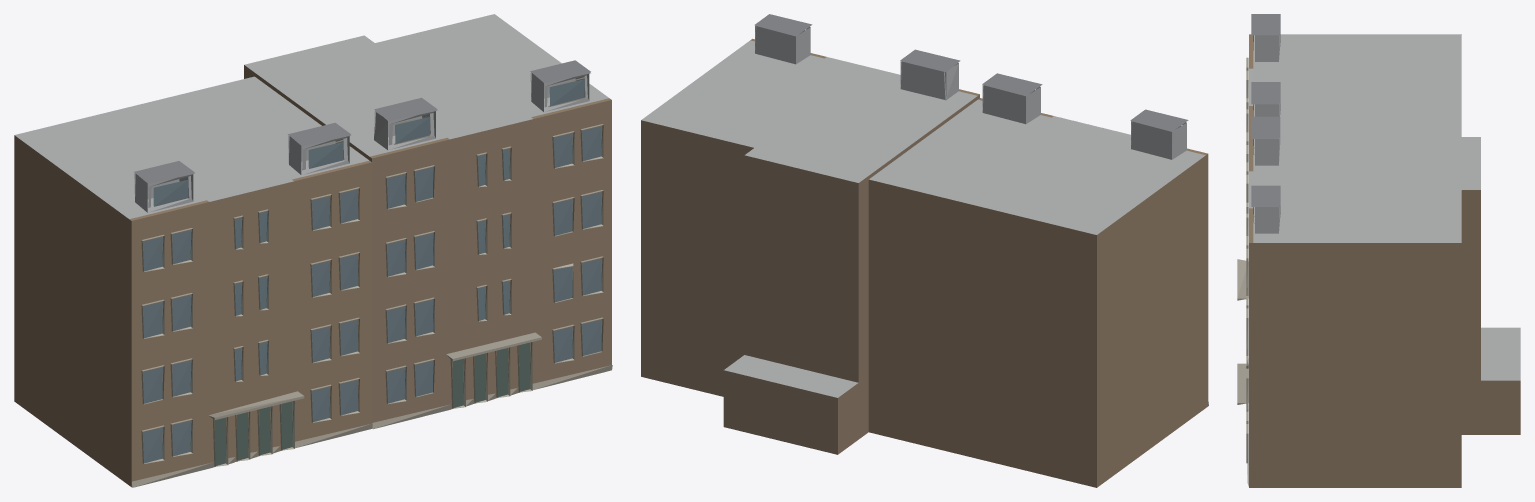
The model's file is chunk-face-zwijgerlaan-225-279-r1.lod2.glb.
3 views of the same model, side by side, from view 1: azimuth 30°, elevation 25°; view 2: azimuth 150°, elevation 25°; view 3: azimuth 270°, elevation 25° (orthographic). The views are drawn at different scales.
Parts seen in each view (by area): view 1: lod2; view 2: lod2; view 3: lod2.
Boxes of the visible parts, <box> form: lod2: <box>14,14,612,487</box>; lod2: <box>641,14,1208,487</box>; lod2: <box>1237,14,1520,487</box>.
Bounding box in the file's own units: 25.57 × 15.36 × 14.42.
